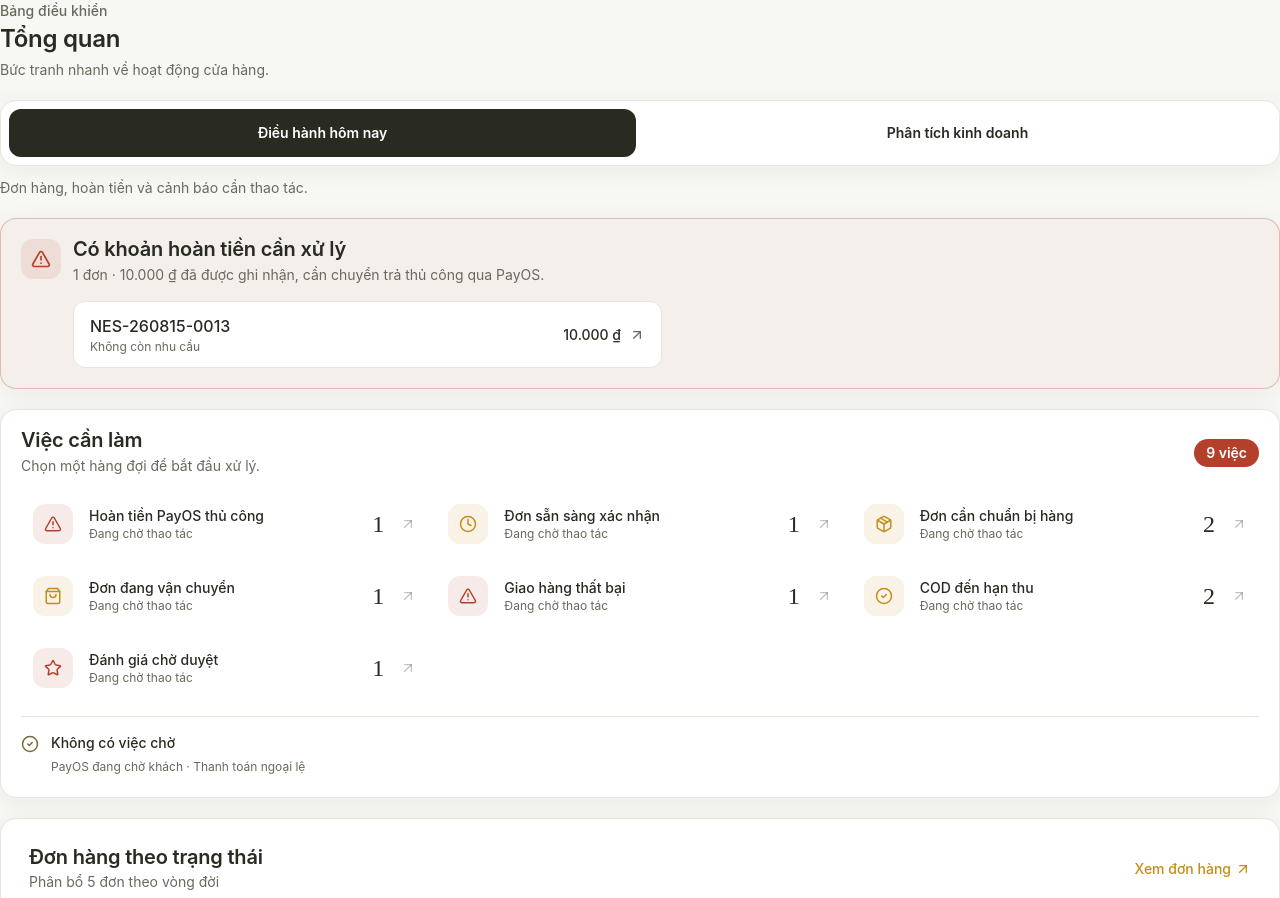
Scenario: AdminDashboardPage › renders aggregated stats from the dashboard endpoint
Click the button "Phân tích kinh doanh": (958, 133) [644,109,1271,157]
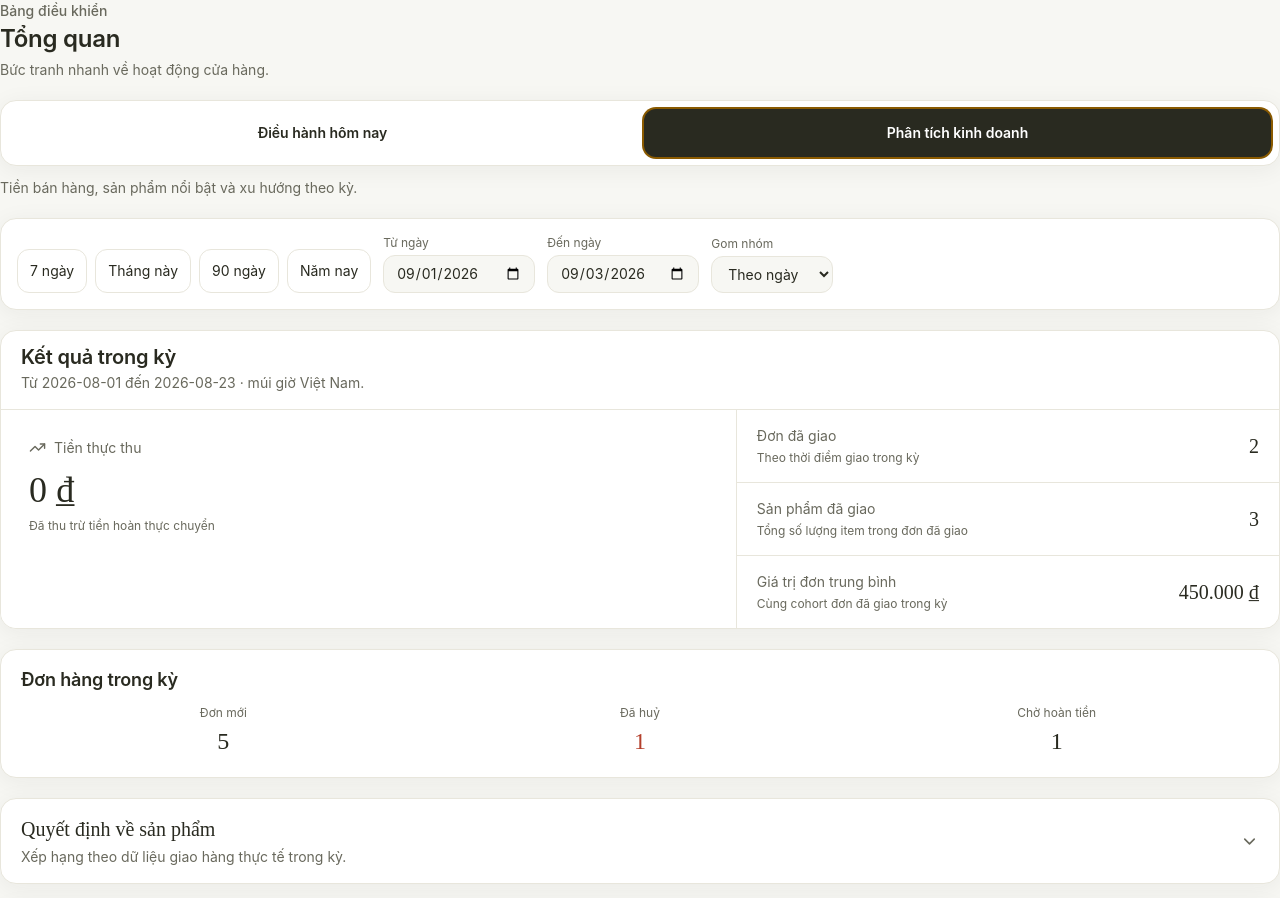
Click the heading "Quyết định về sản phẩm": (118, 829) [21,818,1259,865]
(page scrolled)
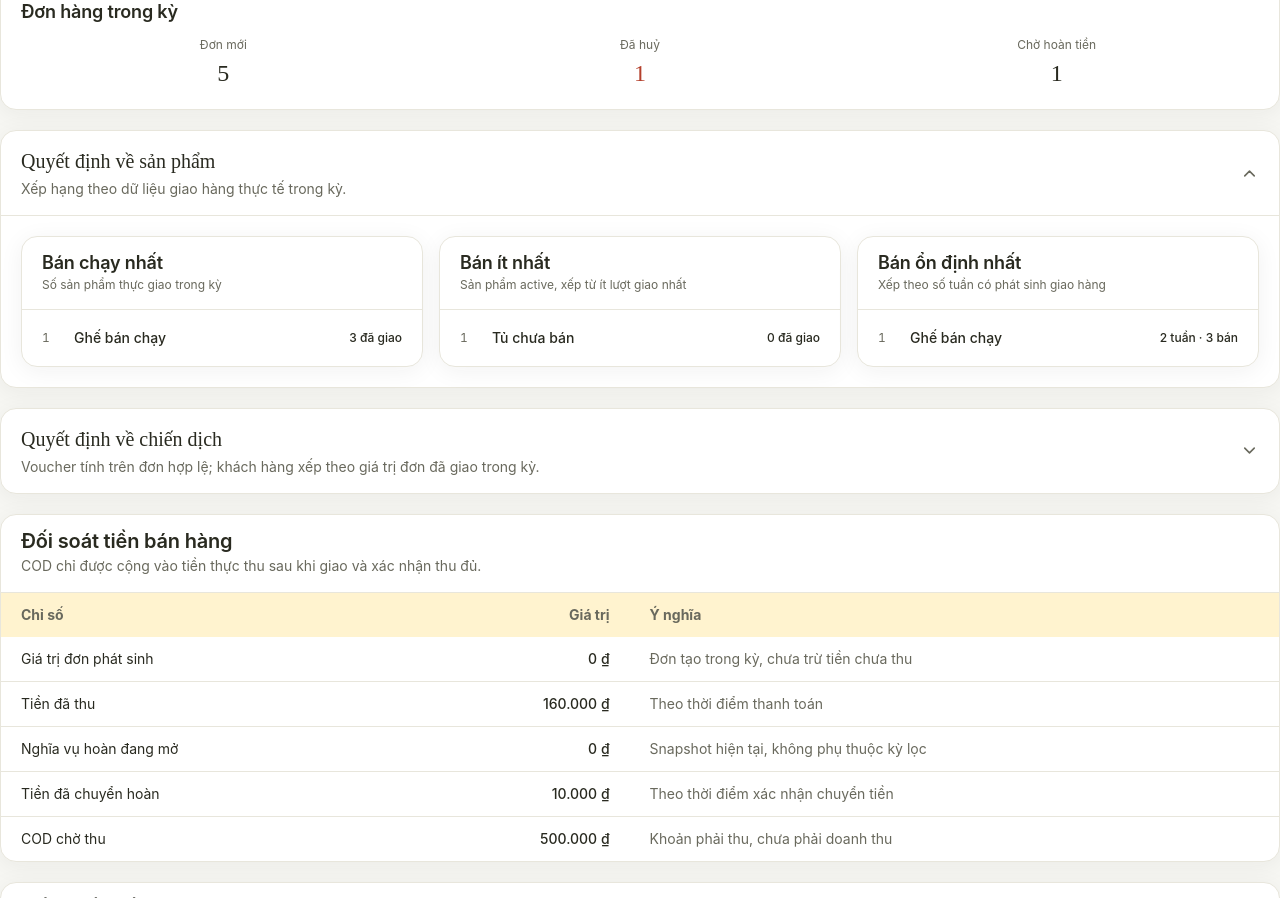
Click the heading "Quyết định về chiến dịch": (122, 439) [21,428,1259,475]
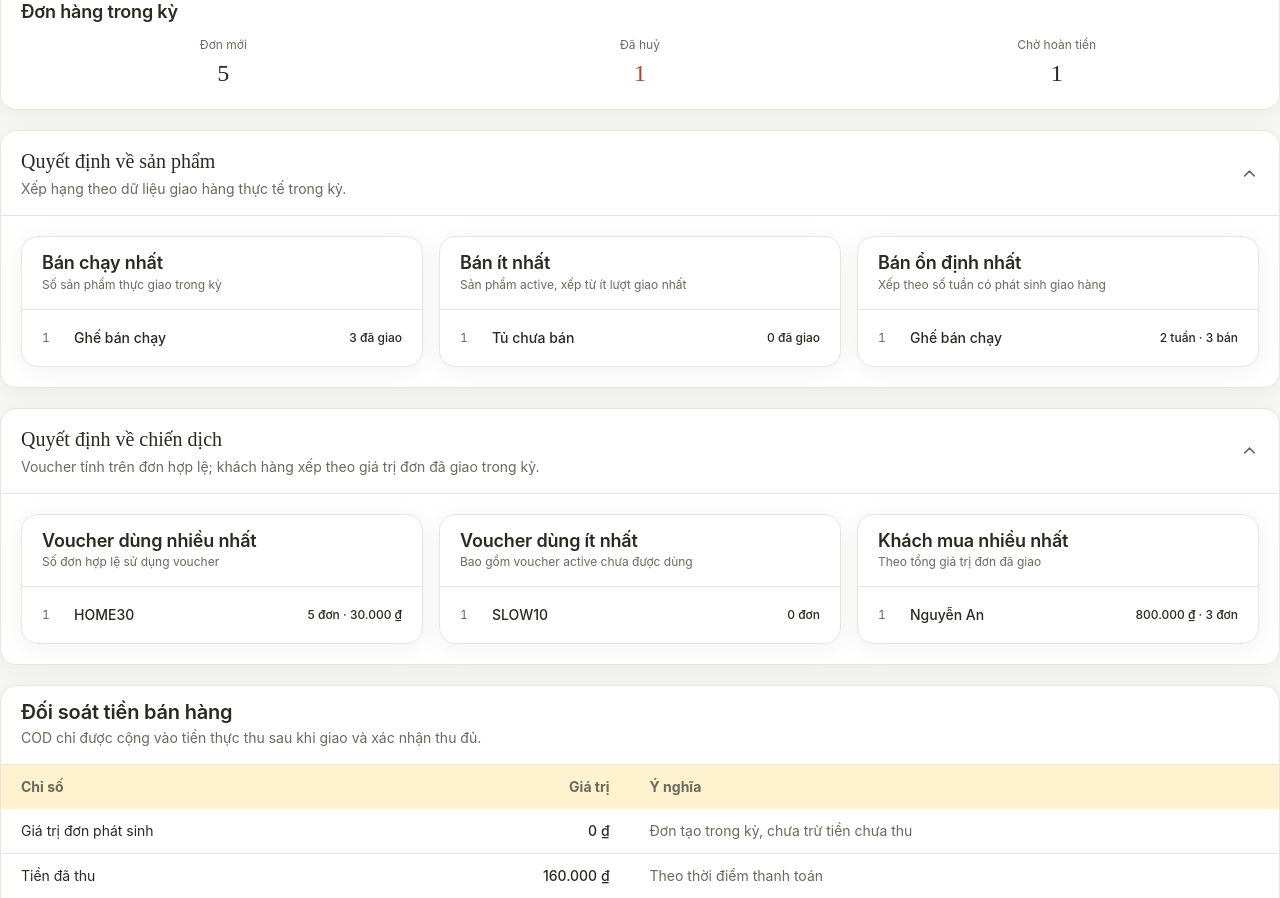
Expected: the heading "Đơn hàng trong kỳ" is shown, [21,1,178,22]
Expected: the text "Tủ chưa bán" is shown, [492,329,574,346]
Expected: the text "HOME30" is shown, [74,606,134,623]
